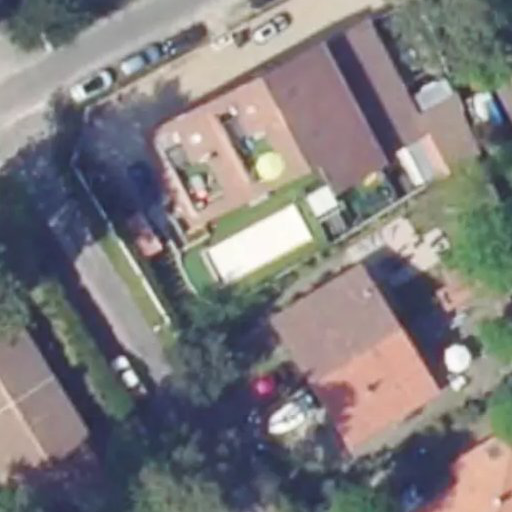pool: (205, 204, 312, 285)
